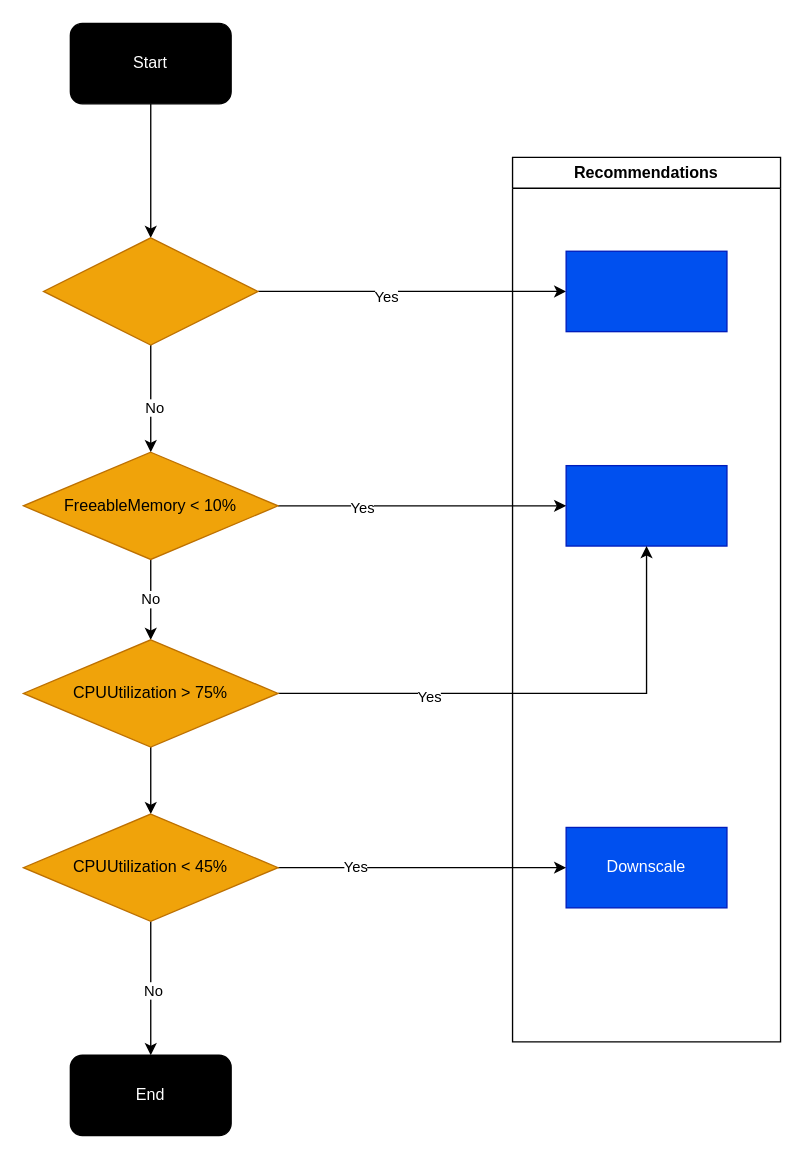
The diagram is 804 pixels wide and 1159 high, and some of its shapes have lost their labels. The shapes that lost their labels are listed below. From the top down, each one's centre as x and y in pixels, then its label:
At (150,291): "DBConnections = 0".
At (646,291): "Terminate".
At (646,505): "Upscale".
